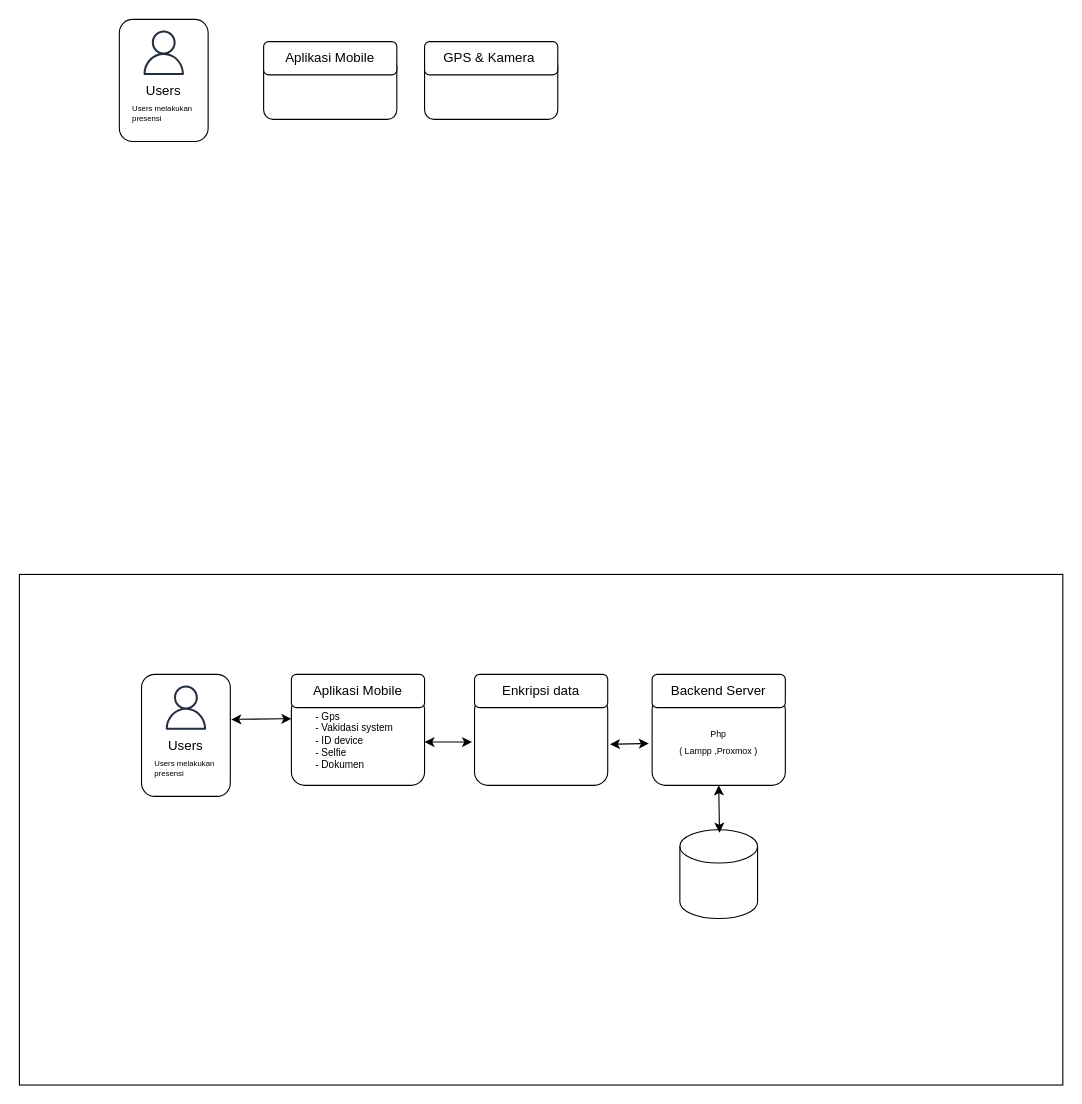
The diagram is 1082 pixels wide and 1104 high, and some of its shapes have lost their labels. The shapes that lost their labels are listed below. From the top down, each one's box as (x1, y1, x2, y2) in pixels, then its label:
(263, 56, 397, 119): Aplikasi Flutter
(423, 56, 558, 119): Lokasi (Lat,Lng) Dokumen ,Foto Selfie
(473, 695, 608, 785): Enkripsi menggunakan AES ( Advanced Encryption Standard )
(679, 829, 758, 919): Database Mysql
